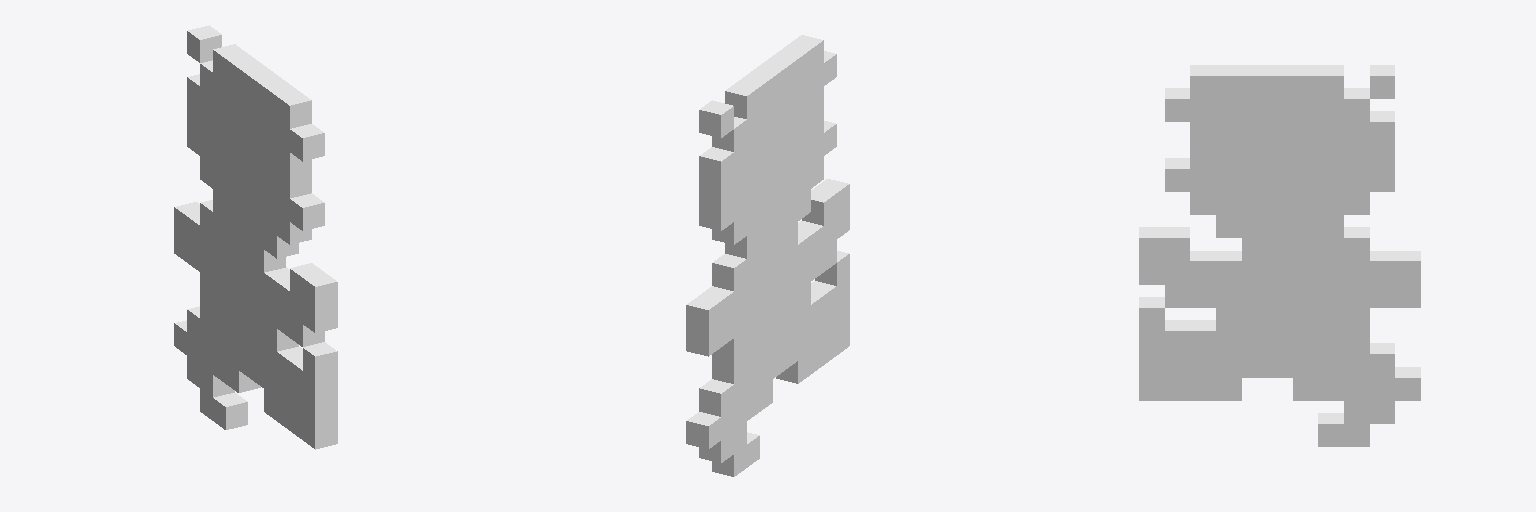
The model's file is Run1.obj.
3 renders of one model, left to right at view 1: azimuth 30°, elevation 25°; view 2: azimuth 150°, elevation 25°; view 3: azimuth 270°, elevation 25°, orthographic.
Parts seen in each view (by area): view 1: object 1; view 2: object 1; view 3: object 1.
Part boxes in pixels (bbox=[...]): object 1: bbox=[174, 25, 337, 449]; object 1: bbox=[686, 35, 849, 476]; object 1: bbox=[1139, 65, 1420, 446].
Size of the model in its own units: 0.1 by 1.6 by 1.1.